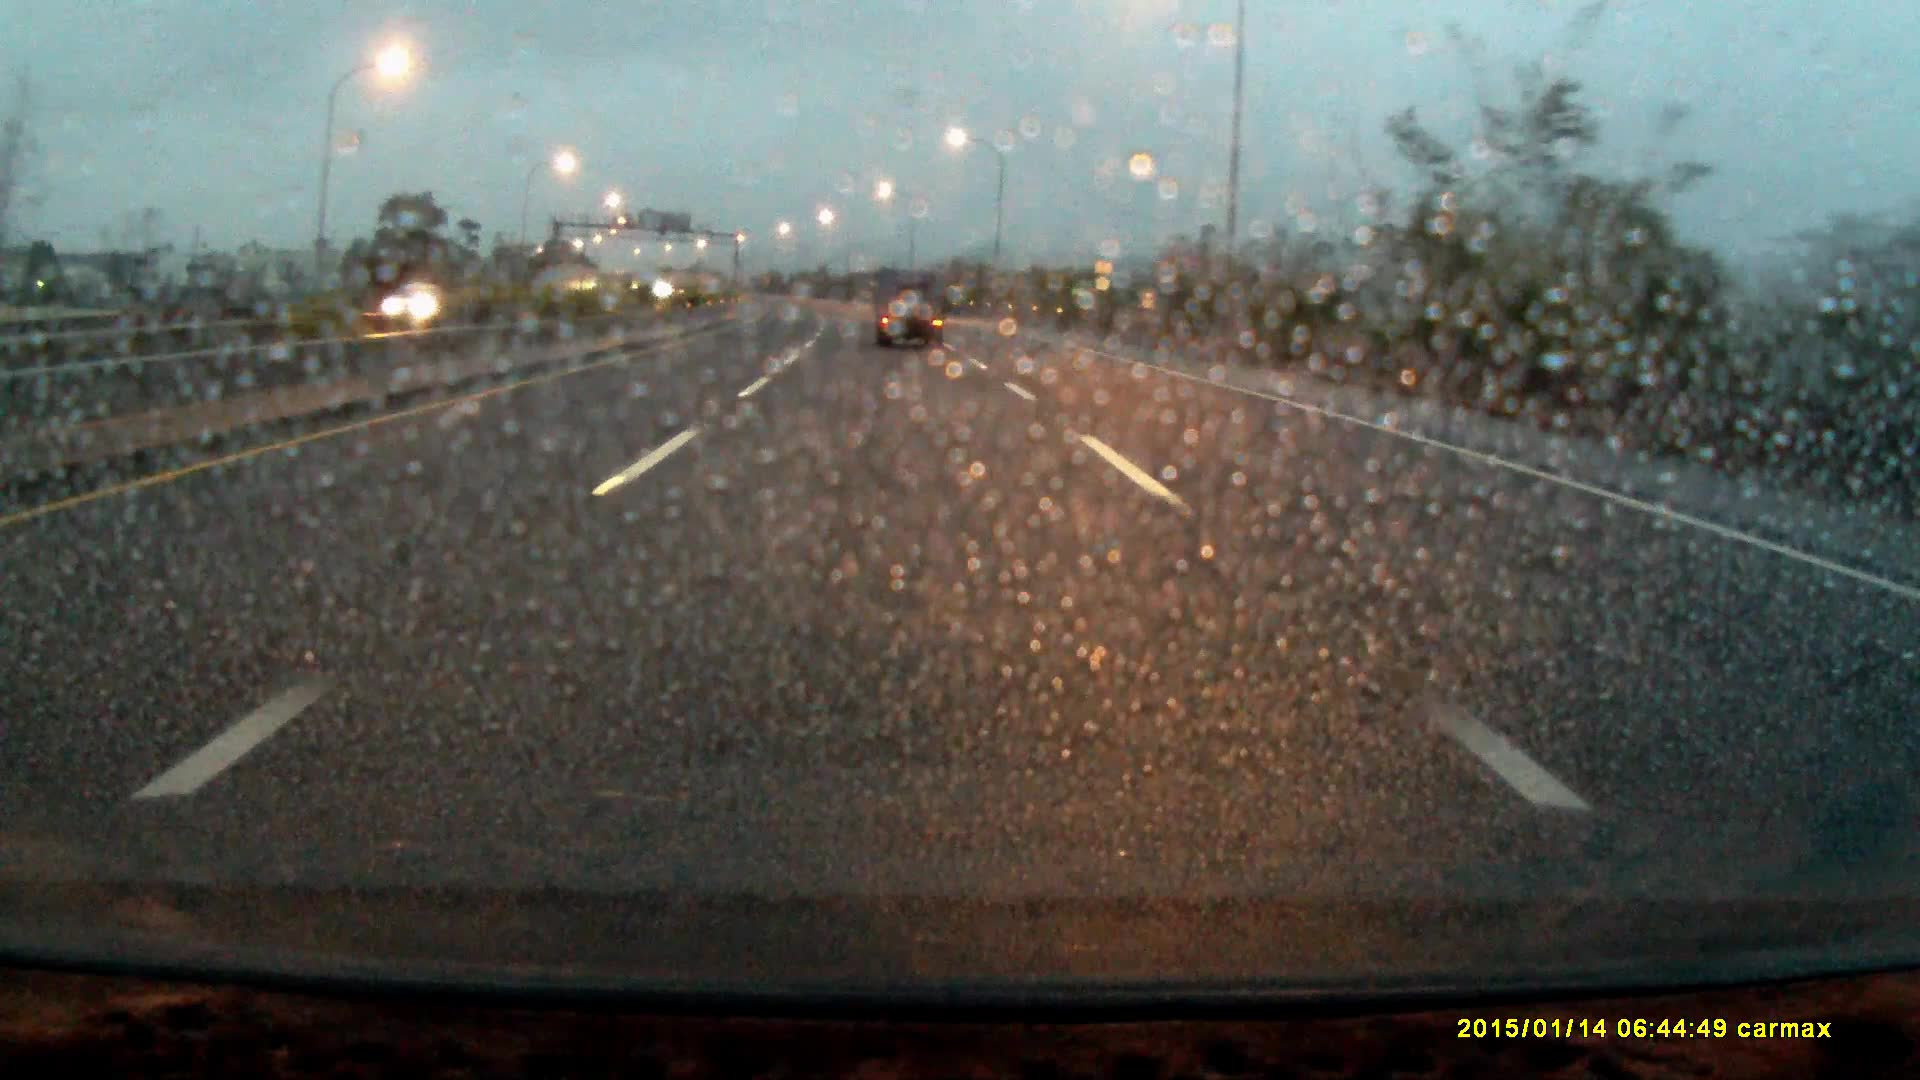vehicle: (873, 268, 943, 353), (378, 282, 452, 320)
